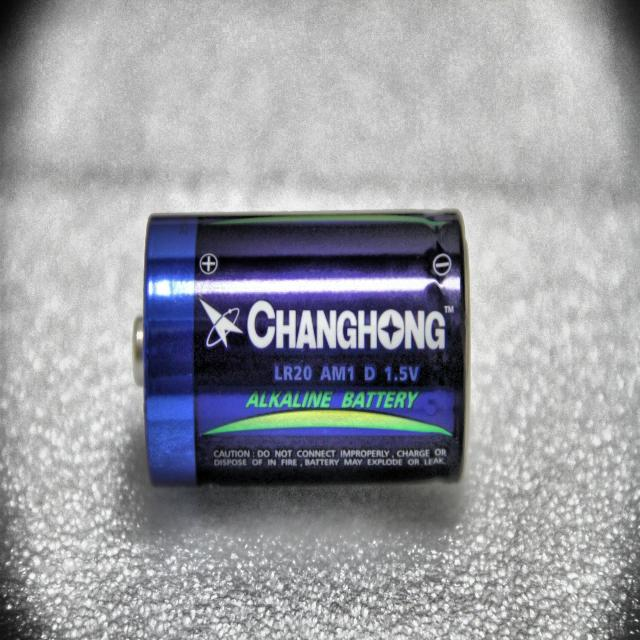Non-Valuable Waste - Batteries: (135, 212, 469, 484)
